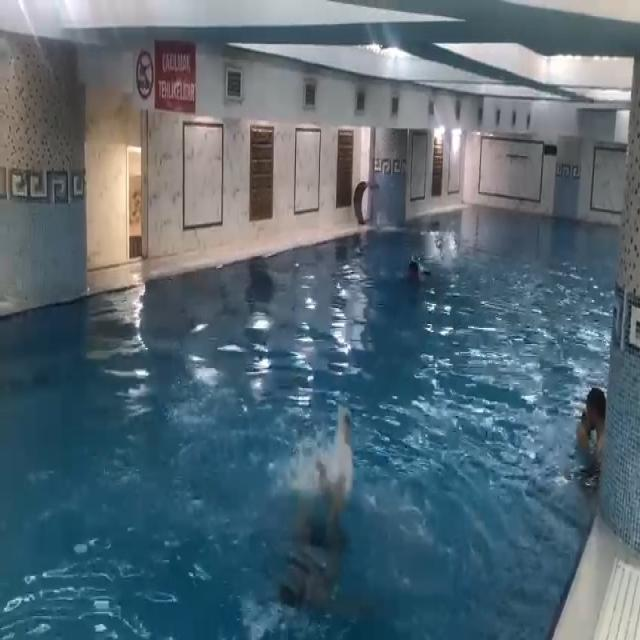Drowning: (280, 418, 352, 596)
